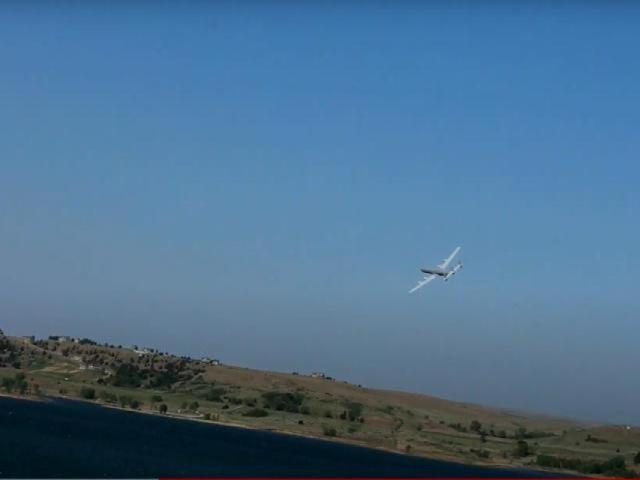iha: (408, 242, 463, 293)
